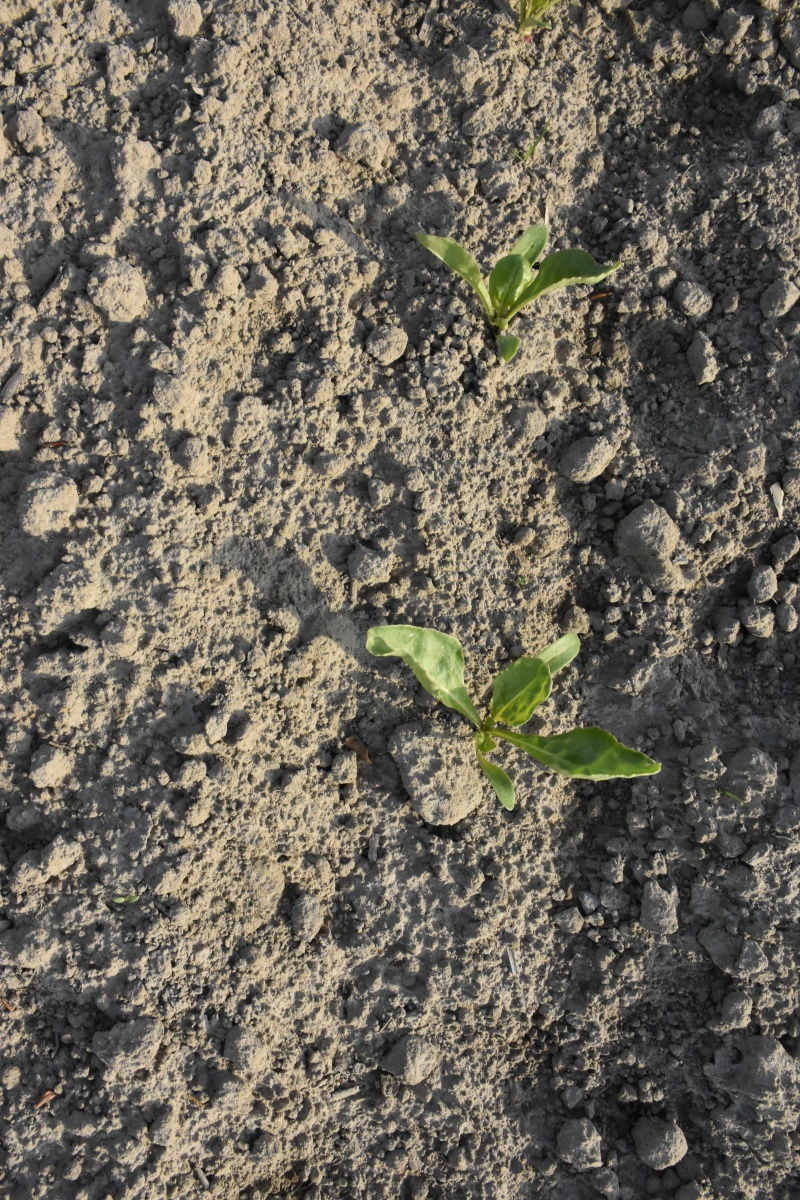sugar beet: (375, 609, 668, 808), (419, 220, 636, 358), (514, 1, 550, 47)
